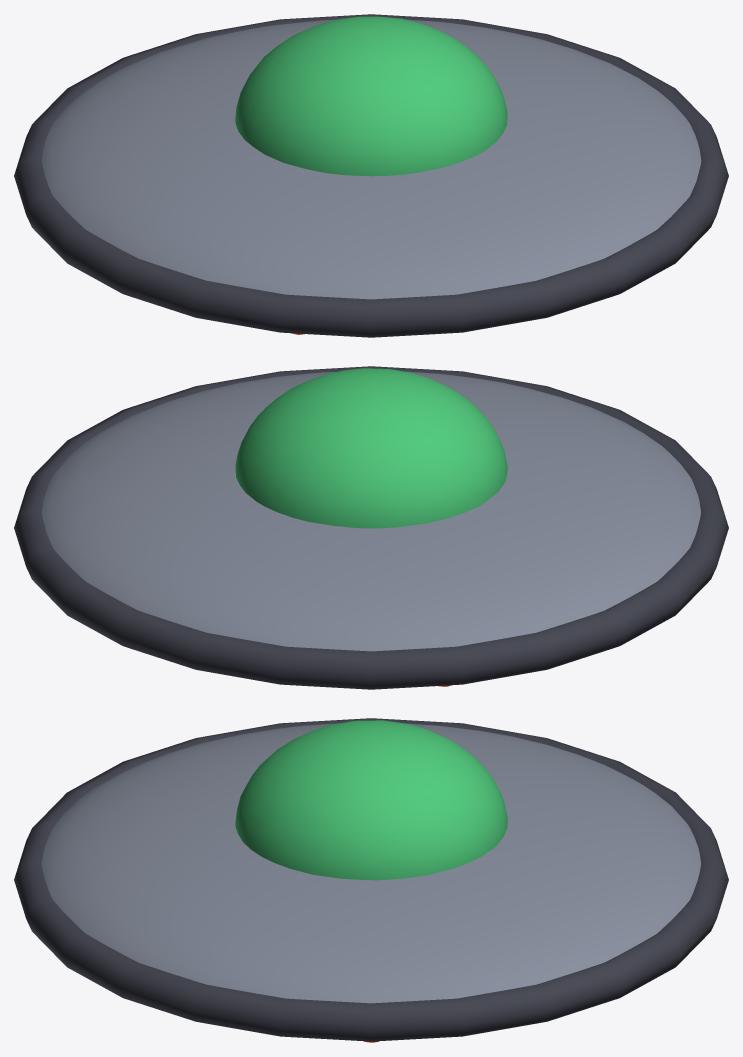
The model's file is Ufo.fbx.
The picture shows the model from 3 angles, top to bottom: view 1: azimuth 30°, elevation 25°; view 2: azimuth 150°, elevation 25°; view 3: azimuth 270°, elevation 25°; orthographic projection.
Visible parts, largest first — view 1: Ufo; view 2: Ufo; view 3: Ufo.
Boxes of the visible parts, box(x1,y1,x2,y2) form: Ufo: box(14, 14, 728, 337); Ufo: box(14, 366, 728, 689); Ufo: box(14, 718, 728, 1042).
Bounding box in the file's own units: 1.74 × 0.555 × 1.74.
